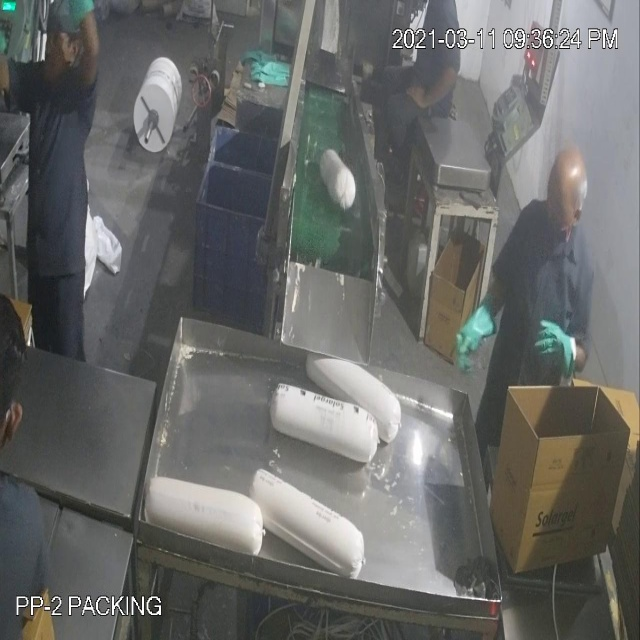Guantes: (433, 287, 500, 376), (528, 322, 583, 386)
Sin_guantes: (402, 54, 461, 112)
